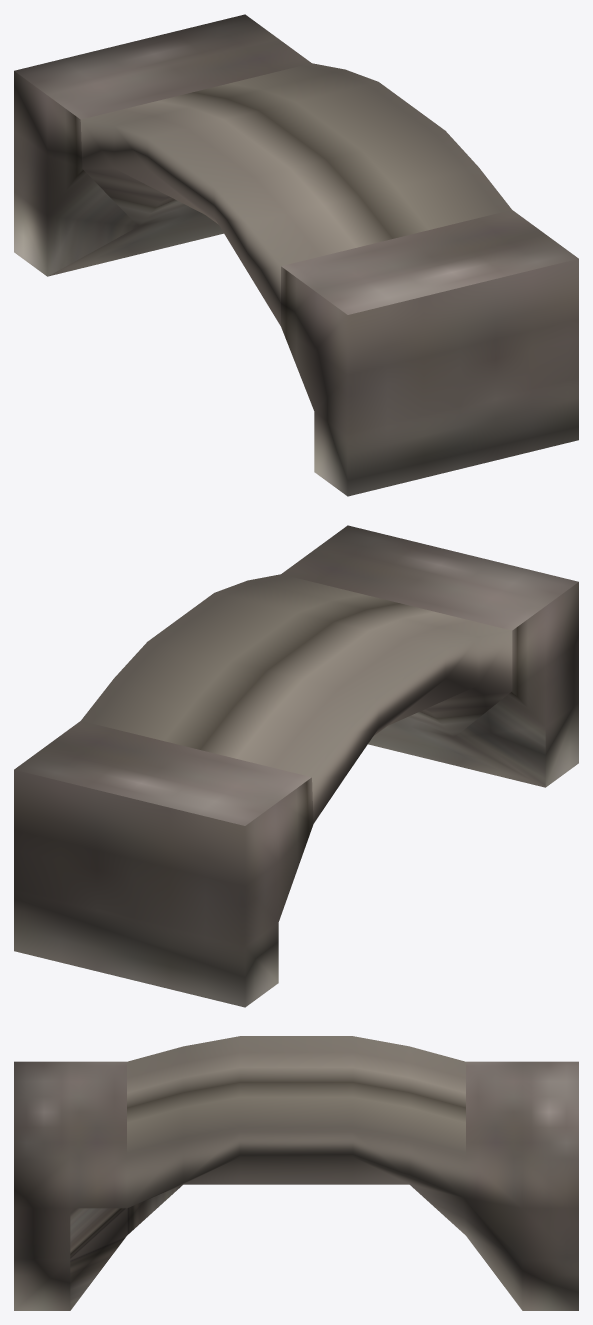
File: bridge_sm.glb
3 renders of one model, top to bottom at view 1: azimuth 30°, elevation 25°; view 2: azimuth 150°, elevation 25°; view 3: azimuth 270°, elevation 25°, orthographic. The views are drawn at different scales.
Parts seen in each view (by area): view 1: bridge_sm; view 2: bridge_sm; view 3: bridge_sm.
Boxes of the visible parts, x1,y1,x2,y2 form: bridge_sm: (14,14,578,496); bridge_sm: (14,525,578,1007); bridge_sm: (14,1036,578,1310).
Bounding box in the file's own units: 2 × 1.75 × 5.
1 material, 1 textured.
